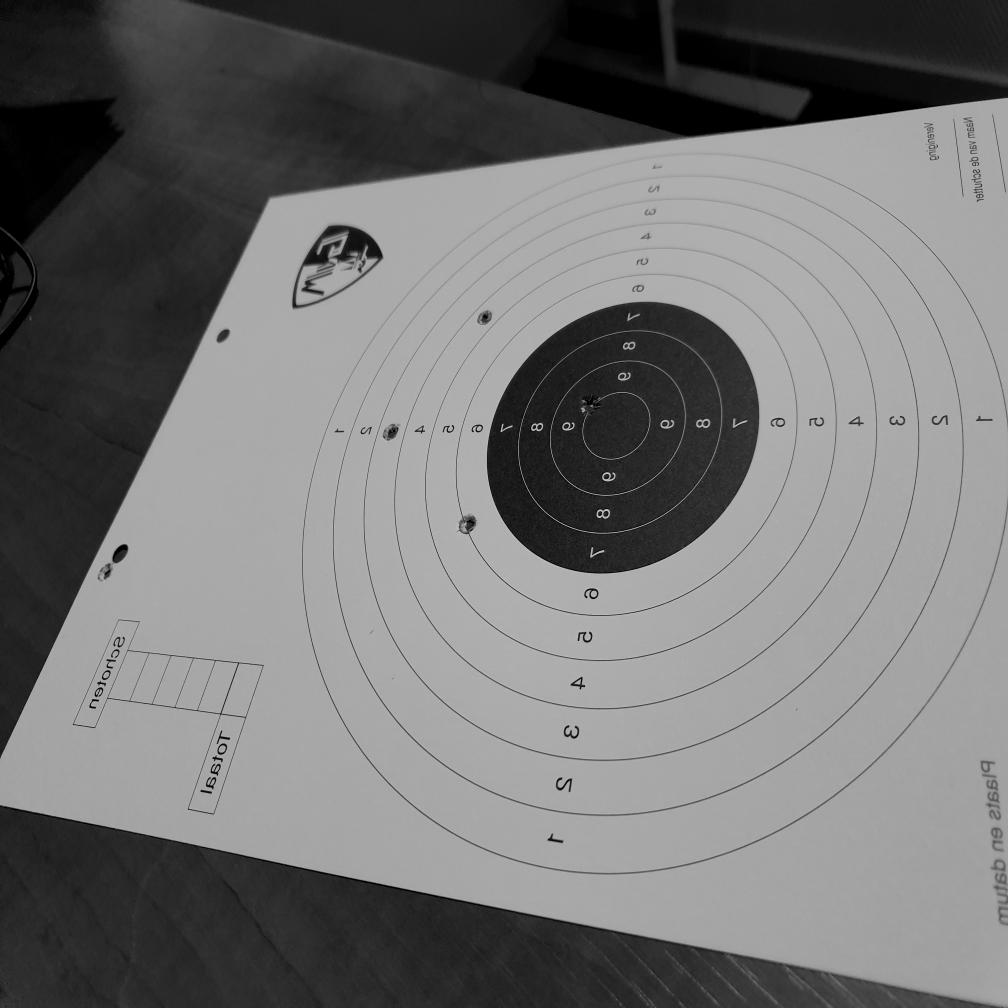0: (96, 560, 114, 586)
10: (579, 391, 602, 418)
3: (379, 420, 401, 443)
4: (474, 306, 494, 328)
6: (456, 511, 477, 537)
Target: (300, 145, 1008, 881)
black_contour: (486, 301, 759, 575)
